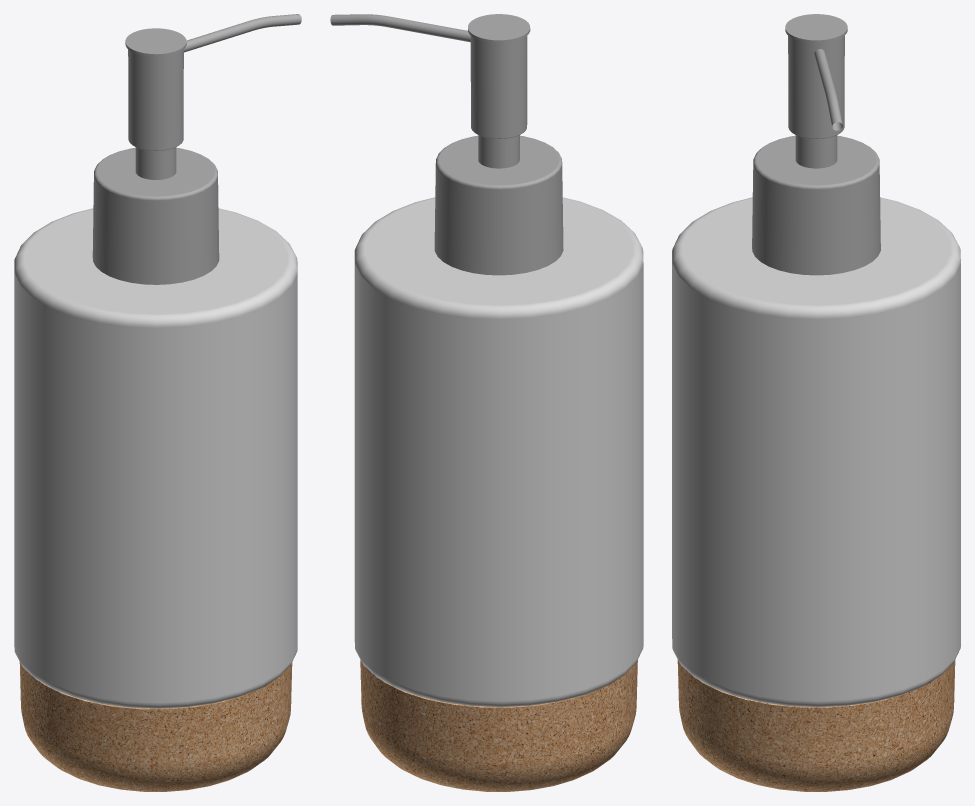
The model's file is sapone.fbx.
3 renders of one model, left to right at view 1: azimuth 30°, elevation 25°; view 2: azimuth 150°, elevation 25°; view 3: azimuth 270°, elevation 25°, orthographic.
Parts seen in each view (by area): view 1: group_0.001, group_2.002, group_4.001, group_1.001, group_5.001, group_6.003, group_3.001; view 2: group_0.001, group_2.002, group_4.001, group_1.001, group_6.003, group_5.001, group_3.001; view 3: group_0.001, group_2.002, group_4.001, group_1.001, group_5.001, group_3.001, group_6.003.
Boxes of the visible parts, left/top/right/bottom form: group_0.001: left=14, top=208, right=297, bottom=708; group_2.002: left=19, top=662, right=292, bottom=791; group_4.001: left=92, top=147, right=219, bottom=284; group_1.001: left=128, top=49, right=183, bottom=150; group_5.001: left=125, top=28, right=186, bottom=56; group_6.003: left=184, top=14, right=301, bottom=52; group_3.001: left=135, top=147, right=176, bottom=179; group_0.001: left=354, top=197, right=643, bottom=707; group_2.002: left=360, top=660, right=637, bottom=791; group_4.001: left=434, top=135, right=563, bottom=275; group_1.001: left=470, top=36, right=527, bottom=138; group_6.003: left=330, top=14, right=470, bottom=42; group_5.001: left=468, top=14, right=530, bottom=43; group_3.001: left=478, top=135, right=519, bottom=168; group_0.001: left=672, top=197, right=960, bottom=707; group_2.002: left=677, top=660, right=955, bottom=791; group_4.001: left=752, top=135, right=880, bottom=275; group_1.001: left=788, top=35, right=844, bottom=138; group_5.001: left=785, top=14, right=847, bottom=43; group_3.001: left=795, top=135, right=837, bottom=168; group_6.003: left=814, top=49, right=842, bottom=130.
Size of the model in its own units: 57.93 by 142 by 51.32.
